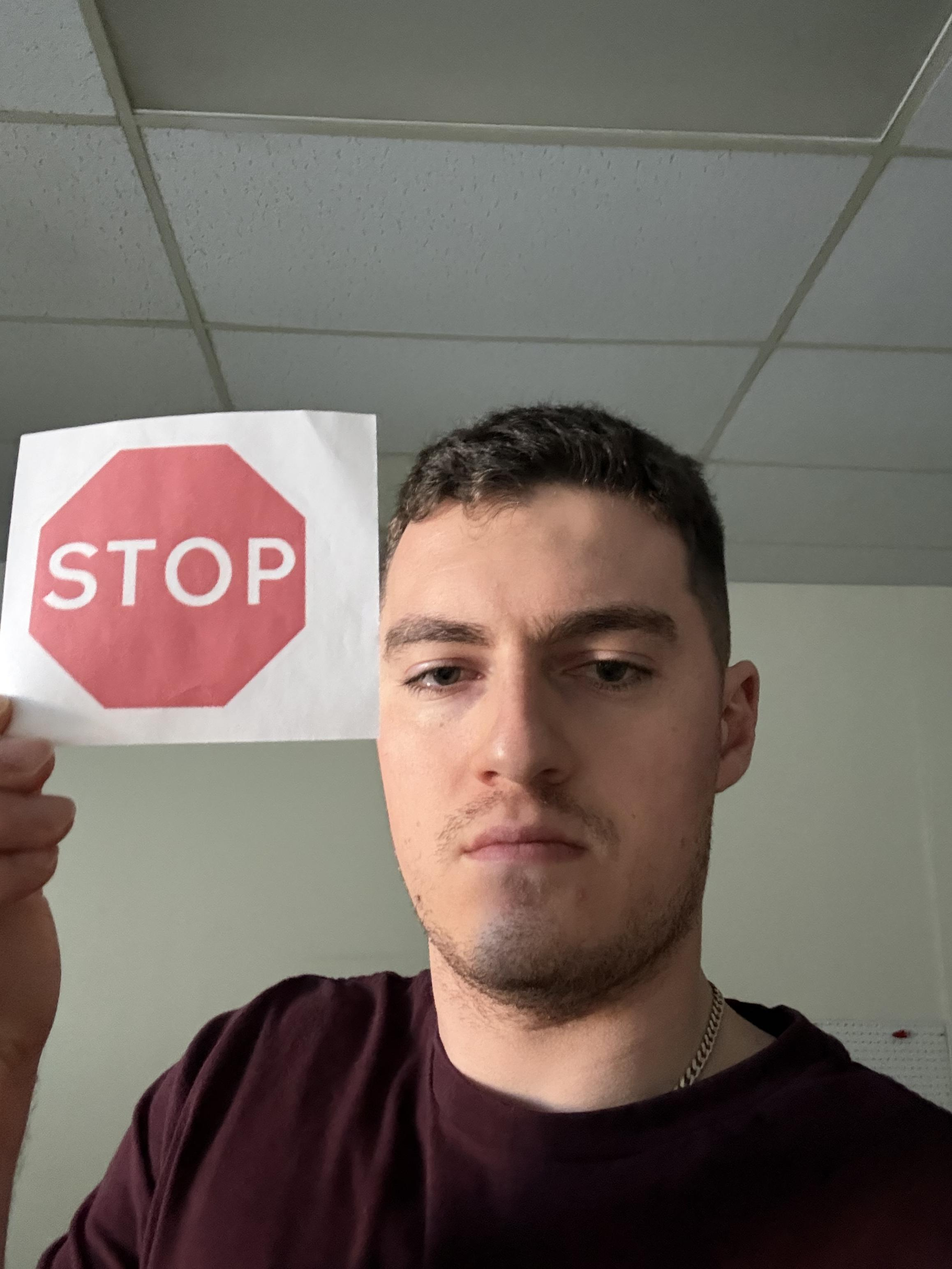Stop: (17, 581, 280, 989)
